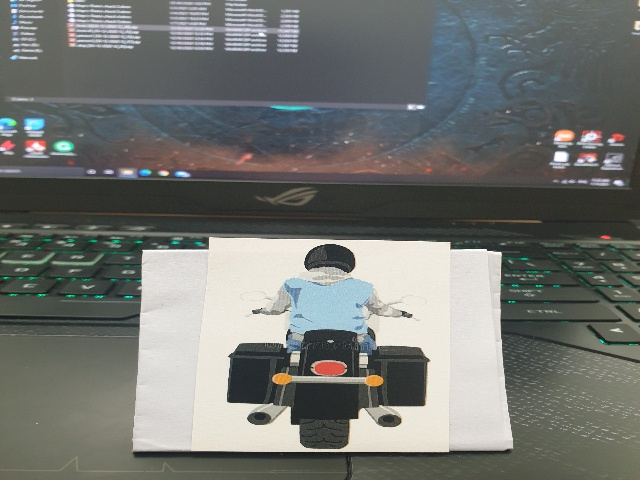Motorcycle: (230, 241, 431, 449)
